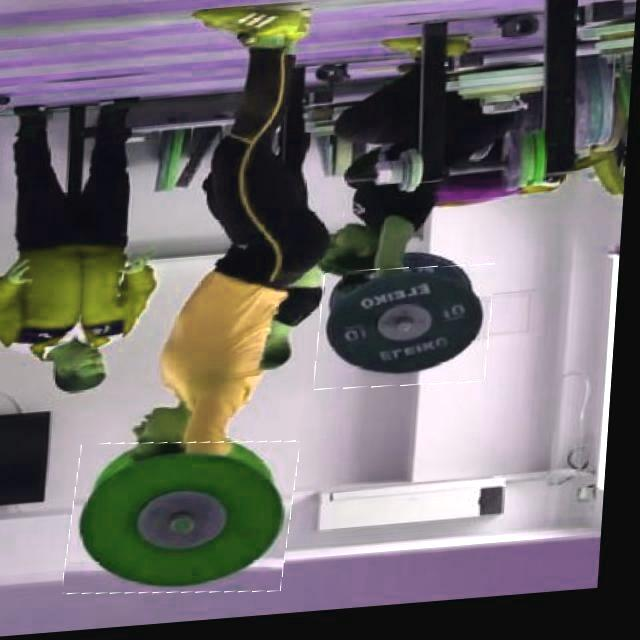barbell: (74, 437, 306, 607), (320, 270, 500, 400)
